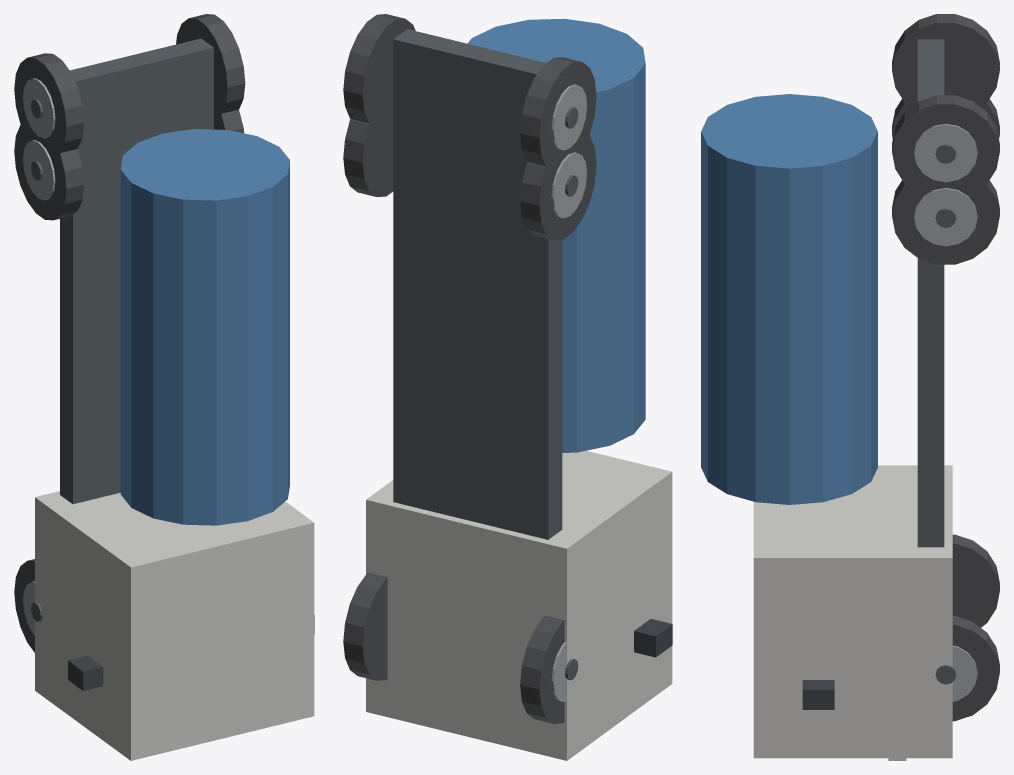
File: cement_mixer.glb
3 renders of one model, left to right at view 1: azimuth 30°, elevation 25°; view 2: azimuth 150°, elevation 25°; view 3: azimuth 270°, elevation 25°, orthographic. The views are drawn at different scales.
Visible parts, largest first — view 1: 0008_Concrete_mixer_drum, 0001_Cab_body, 0000_Truck_chassis, 0021_Wheel_tire, 0015_Wheel_tire, 0024_Wheel_tire, 0016_Wheel_rim, 0022_Wheel_rim, 0006_Side_mirror, 0009_Wheel_tire, 0018_Wheel_tire; view 2: 0000_Truck_chassis, 0001_Cab_body, 0008_Concrete_mixer_drum, 0024_Wheel_tire, 0021_Wheel_tire, 0015_Wheel_tire, 0012_Wheel_tire, 0018_Wheel_tire, 0009_Wheel_tire, 0016_Wheel_rim, 0022_Wheel_rim, 0006_Side_mirror (+1 smaller); view 3: 0008_Concrete_mixer_drum, 0001_Cab_body, 0000_Truck_chassis, 0021_Wheel_tire, 0024_Wheel_tire, 0018_Wheel_tire, 0009_Wheel_tire, 0012_Wheel_tire, 0025_Wheel_rim, 0019_Wheel_rim, 0013_Wheel_rim, 0007_Side_mirror (+1 smaller).
Boxes of the visible parts, <box> form: 0008_Concrete_mixer_drum: <box>120,129,289,525</box>; 0001_Cab_body: <box>35,491,314,760</box>; 0000_Truck_chassis: <box>60,38,213,504</box>; 0021_Wheel_tire: <box>14,53,83,157</box>; 0015_Wheel_tire: <box>14,120,83,220</box>; 0024_Wheel_tire: <box>176,14,245,118</box>; 0016_Wheel_rim: <box>23,140,55,200</box>; 0022_Wheel_rim: <box>23,78,55,138</box>; 0006_Side_mirror: <box>68,655,103,690</box>; 0009_Wheel_tire: <box>14,559,34,652</box>; 0018_Wheel_tire: <box>214,99,244,133</box>; 0000_Truck_chassis: <box>393,29,562,539</box>; 0001_Cab_body: <box>366,450,672,760</box>; 0008_Concrete_mixer_drum: <box>467,18,645,452</box>; 0024_Wheel_tire: <box>343,14,415,128</box>; 0021_Wheel_tire: <box>520,57,596,166</box>; 0015_Wheel_tire: <box>520,130,596,240</box>; 0012_Wheel_tire: <box>343,572,387,680</box>; 0018_Wheel_tire: <box>343,90,393,196</box>; 0009_Wheel_tire: <box>520,615,564,723</box>; 0016_Wheel_rim: <box>551,152,586,218</box>; 0022_Wheel_rim: <box>551,84,586,150</box>; 0006_Side_mirror: <box>634,619,672,657</box>; 0008_Concrete_mixer_drum: <box>701,94,877,504</box>; 0001_Cab_body: <box>753,465,952,758</box>; 0000_Truck_chassis: <box>917,39,944,547</box>; 0021_Wheel_tire: <box>892,14,999,105</box>; 0024_Wheel_tire: <box>892,95,999,195</box>; 0018_Wheel_tire: <box>892,173,999,264</box>; 0009_Wheel_tire: <box>952,534,999,627</box>; 0012_Wheel_tire: <box>952,616,999,721</box>; 0025_Wheel_rim: <box>914,124,977,182</box>; 0019_Wheel_rim: <box>914,188,977,246</box>; 0013_Wheel_rim: <box>952,645,977,701</box>; 0007_Side_mirror: <box>802,680,834,709</box>.
Bounding box in the file's own units: 3.13 × 8.23 × 3.38.
